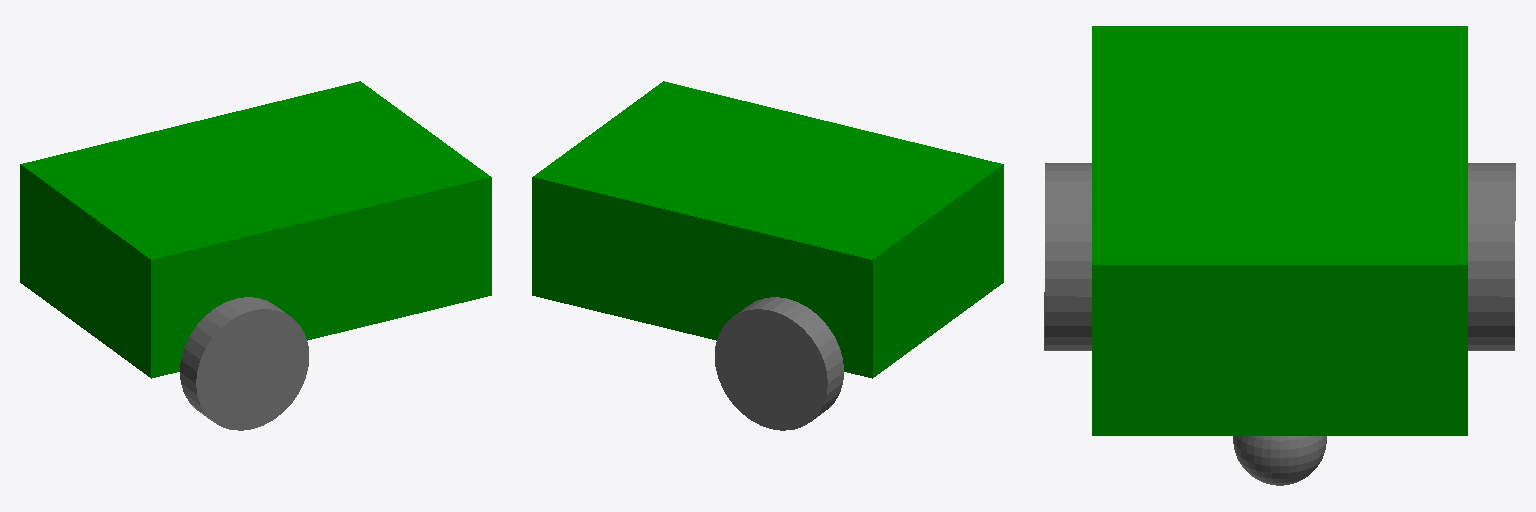
URDF robot description (my_car):
<?xml version="1.0"?>

<!-- 
    Archivo URDF para definir un robot móvil simple llamado "my_car".
    Este robot tiene un cuerpo principal (base_link), dos ruedas delanteras (con articulaciones continuas)
    y una rueda trasera tipo caster (articulación fija). También incluye un enlace virtual para la base.
    Puede ser utilizado en simuladores como Gazebo o visualizado en RViz.
-->

<robot name="my_car">

    <!-- Definición de materiales -->
    <material name="green">
        <color rgba="0 0.6 0 1"/> <!-- Color verde -->
    </material>
    <material name="grey">
        <color rgba="0.5 0.5 0.5 1"/> <!-- Color gris -->
    </material>

    <!-- Definición del enlace base (base_link) -->
    <link name="base_link">
        <visual>
            <geometry>
                <box size="0.6 0.4 0.2"/> <!-- Caja con dimensiones 0.6 x 0.4 x 0.2 -->
            </geometry>
            <origin xyz="0 0 0.1" rpy="0 0 0"/> <!-- Posición del enlace en el marco de coordenadas -->
            <material name="green"/> <!-- Material verde -->
        </visual>
    </link>

    <!-- Definición de las ruedas delanteras -->
    <link name="wheel_front_left">
        <visual>
            <geometry>
                <cylinder radius="0.1" length="0.05"/> <!-- Cilindro con radio 0.1 y longitud 0.05 -->
            </geometry>
            <origin xyz="0 0 0" rpy="1.57 0 0"/> <!-- Orientación para que sea perpendicular al suelo -->
            <material name="grey"/> <!-- Material gris -->
        </visual>
    </link>
    <link name="wheel_front_right">
        <visual>
            <geometry>
                <cylinder radius="0.1" length="0.05"/> <!-- Cilindro con radio 0.1 y longitud 0.05 -->
            </geometry>
            <origin xyz="0 0 0" rpy="1.57 0 0"/> <!-- Orientación para que sea perpendicular al suelo -->
            <material name="grey"/> <!-- Material gris -->
        </visual>
    </link>

    <!-- Definición de la rueda trasera tipo caster -->
    <link name="caster_wheel">
        <visual>
            <geometry>
                <sphere radius="0.05"/> <!-- Esfera con radio 0.05 -->
            </geometry>
            <origin xyz="0 0 0" rpy="0 0 0"/> <!-- Posición en el marco de coordenadas -->
            <material name="grey"/> <!-- Material gris -->
        </visual>
    </link>

    <!-- Enlace virtual para la base -->
    <link name="base_footprint"/>

    <!-- Definición de las articulaciones -->
    <!-- Articulación de la rueda delantera izquierda -->
    <joint name="wheel_front_left_joint" type="continuous">
        <parent link="base_link"/> <!-- Enlace padre -->
        <child link="wheel_front_left"/> <!-- Enlace hijo -->
        <origin xyz="-0.15 -0.225 0" rpy="0 0 0"/> <!-- Posición de la articulación -->
        <axis xyz="0 1 0"/> <!-- Eje de rotación (Y) -->
    </joint>

    <!-- Articulación de la rueda delantera derecha -->
    <joint name="wheel_front_right_joint" type="continuous">
        <parent link="base_link"/> <!-- Enlace padre -->
        <child link="wheel_front_right"/> <!-- Enlace hijo -->
        <origin xyz="-0.15 0.225 0" rpy="0 0 0"/> <!-- Posición de la articulación -->
        <axis xyz="0 1 0"/> <!-- Eje de rotación (Y) -->
    </joint>

    <!-- Articulación fija de la rueda trasera tipo caster -->
    <joint name="caster_wheel_joint" type="fixed">
        <parent link="base_link"/> <!-- Enlace padre -->
        <child link="caster_wheel"/> <!-- Enlace hijo -->
        <origin xyz="0.2 0 -0.05" rpy="0 0 0"/> <!-- Posición de la articulación -->
    </joint>

    <!-- Articulación fija entre base_footprint y base_link -->
    <joint name="virtual_base_link_joint" type="fixed">
        <parent link="base_footprint"/> <!-- Enlace padre -->
        <child link="base_link"/> <!-- Enlace hijo -->
        <origin xyz="0 0 0.1" rpy="0 0 0"/> <!-- Posición de la articulación -->
    </joint>

</robot>

--- Facts derived from the render (not from the file) ---
The picture shows the robot from 3 angles, left to right: view 1: azimuth 30°, elevation 25°; view 2: azimuth 150°, elevation 25°; view 3: azimuth 270°, elevation 25°; orthographic projection.
Model my_car with 5 links and 4 joints (2 continuous, 2 fixed), rooted at base_footprint, posed every joint at zero.
Visible links, largest first — view 1: base_link, wheel_front_left; view 2: base_link, wheel_front_right; view 3: base_link, wheel_front_left, wheel_front_right, caster_wheel.
Boxes of the visible links, x1,y1,x2,y2 form: base_link: (20, 81, 491, 378); wheel_front_left: (180, 297, 308, 430); base_link: (532, 81, 1003, 378); wheel_front_right: (715, 297, 843, 430); base_link: (1092, 26, 1467, 435); wheel_front_left: (1044, 163, 1091, 350); wheel_front_right: (1468, 163, 1515, 350); caster_wheel: (1233, 436, 1326, 485).
Bounding box of the posed robot: 0.6 × 0.5002 × 0.3 m (x, y, z).
Geometry: primitives only (box / cylinder / sphere), no mesh files.
